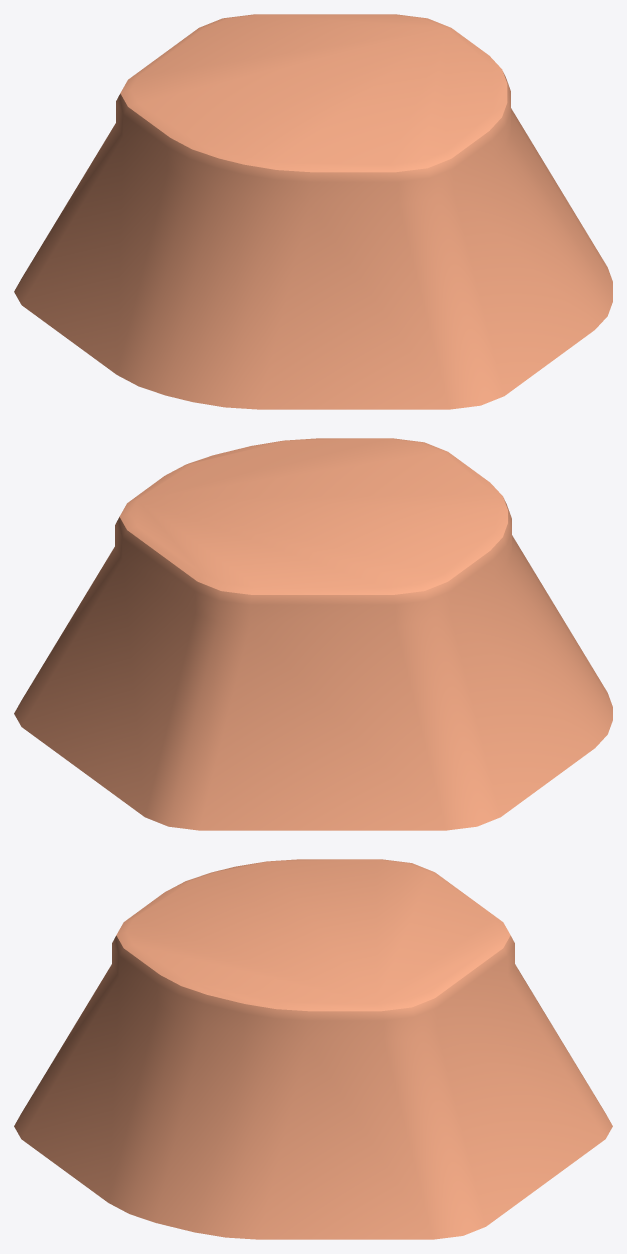
File: HillRock009.fbx
3 views of the same model, one above another, from view 1: azimuth 30°, elevation 25°; view 2: azimuth 150°, elevation 25°; view 3: azimuth 270°, elevation 25° (orthographic). The views are drawn at different scales.
Visible parts, largest first — view 1: HillRock009; view 2: HillRock009; view 3: HillRock009.
Part boxes in pixels (bbox=[...]): HillRock009: bbox=[14, 14, 612, 409]; HillRock009: bbox=[14, 438, 612, 830]; HillRock009: bbox=[14, 859, 612, 1239].
Size of the model in its own units: 791 by 316 by 883.
